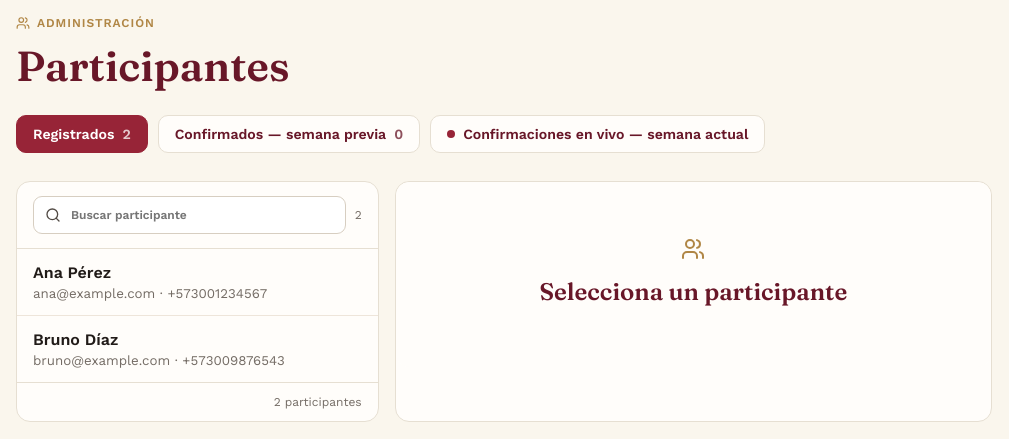
Test: ParticipantsPanel · modo local (auth.configured=false) › filtra por búsqueda dentro de Registrados
Type "bruno" into the field with placeholder "Buscar participante" at (189, 215), box [33,196,346,234]
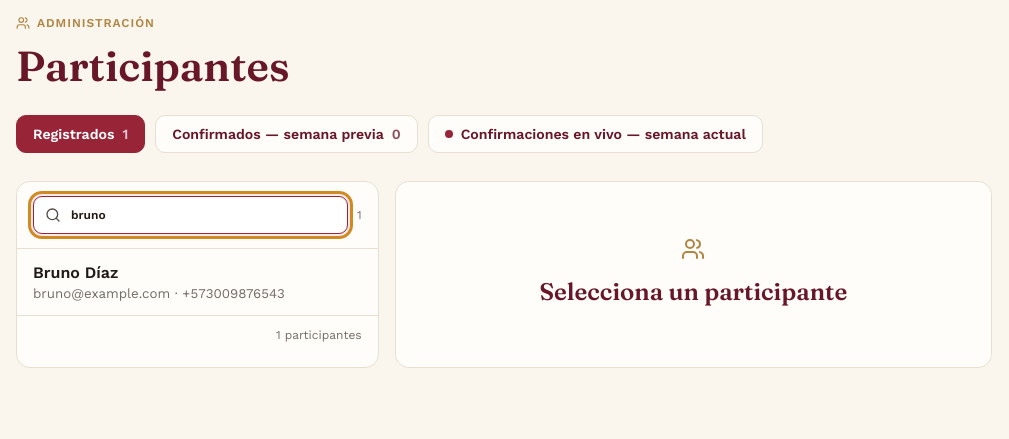
Check: the text "Bruno Díaz" is shown, box [33,263,118,282]
Check: the button "Ana Pérez" is gone
